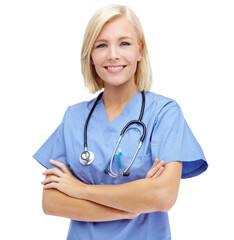young: (72, 8, 150, 94)
